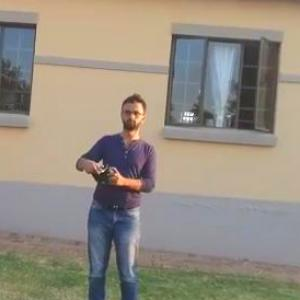follow: (71, 84, 168, 299)
